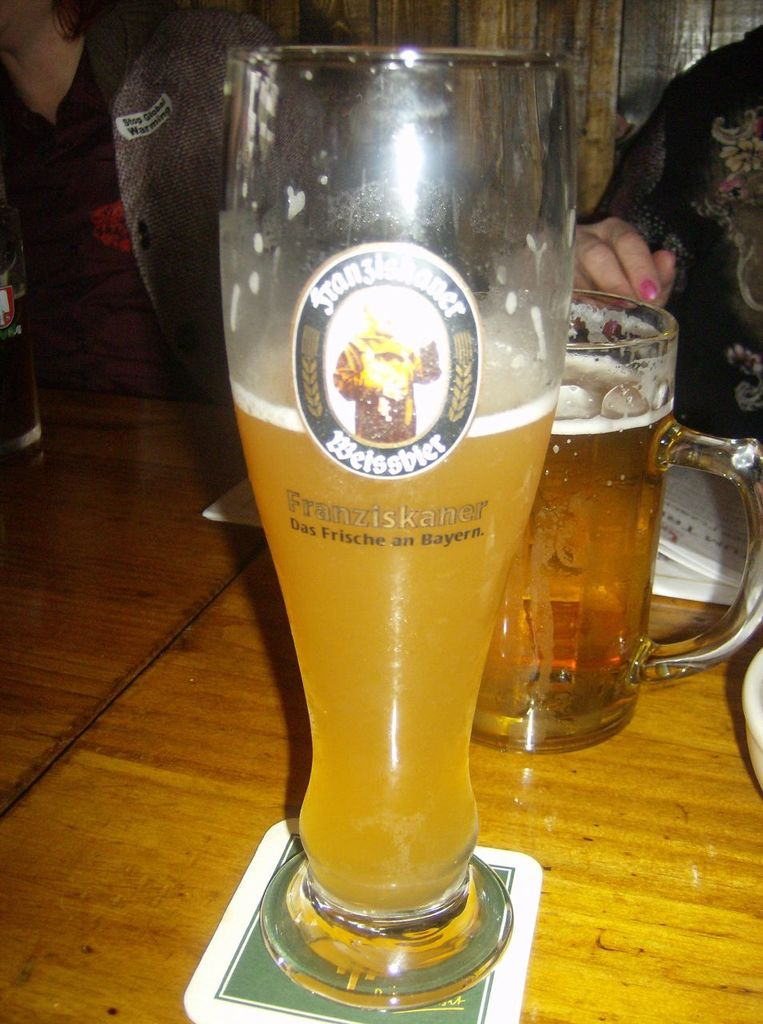Beer: (476, 286, 763, 758)
